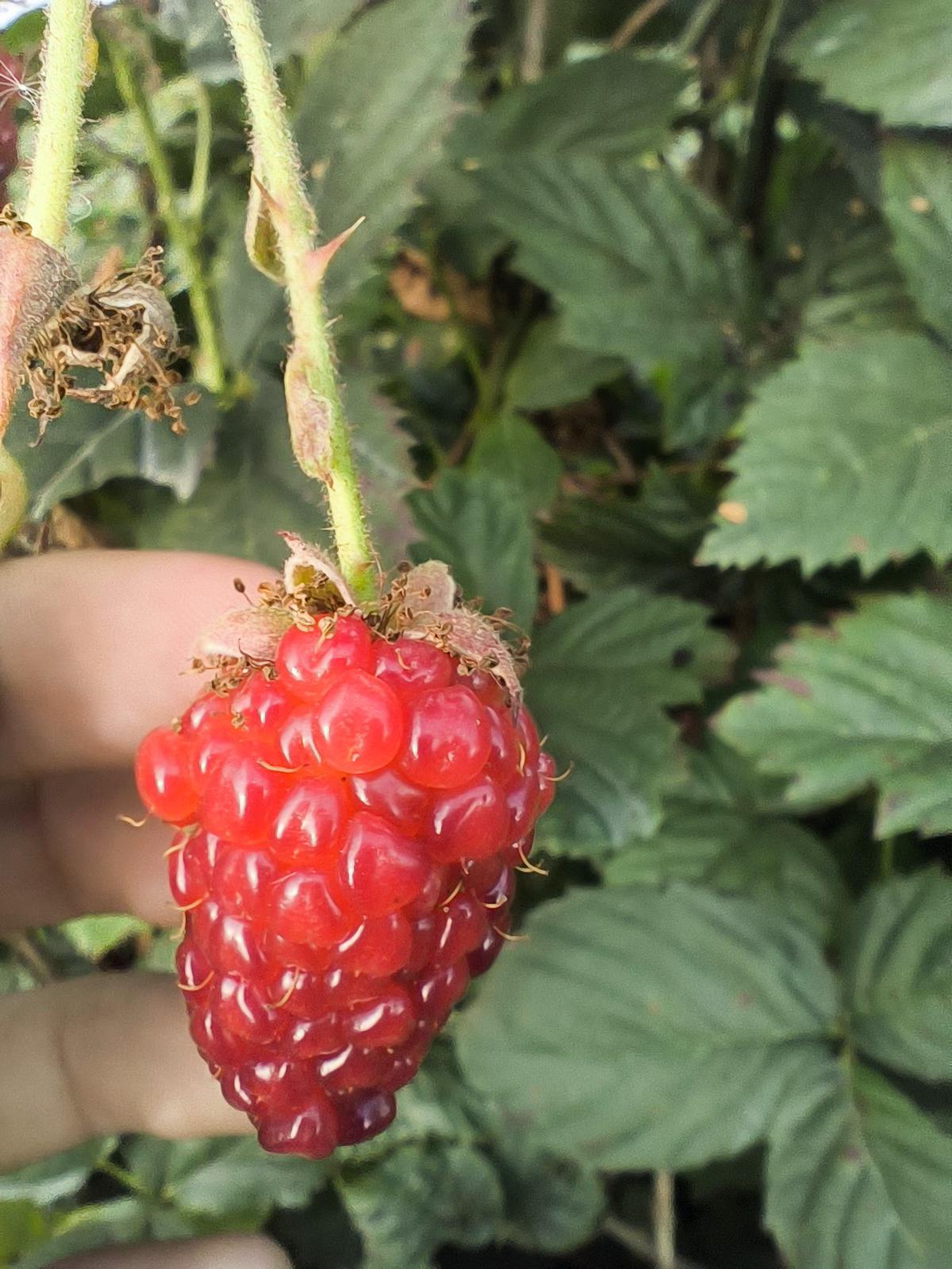naranja: (151, 630, 530, 1156)
